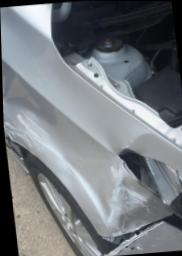Bumper: (102, 221, 182, 255)
Fender: (75, 153, 173, 241)
